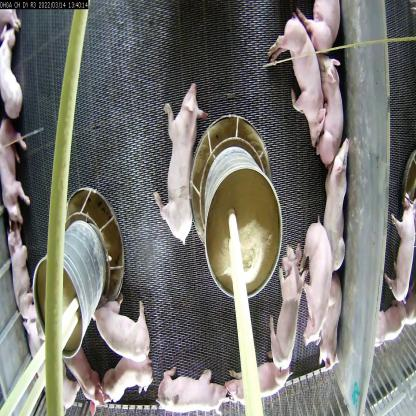Pig: (152, 75, 203, 246), (268, 11, 325, 152), (264, 237, 302, 377), (24, 321, 79, 415), (93, 290, 156, 371), (320, 134, 355, 273), (309, 42, 344, 166), (299, 221, 332, 346), (152, 362, 229, 415), (4, 223, 41, 330), (385, 190, 416, 308), (0, 122, 32, 232), (224, 365, 290, 415), (0, 15, 27, 124), (100, 351, 156, 403), (64, 350, 105, 415), (299, 0, 342, 56), (316, 276, 338, 376)
